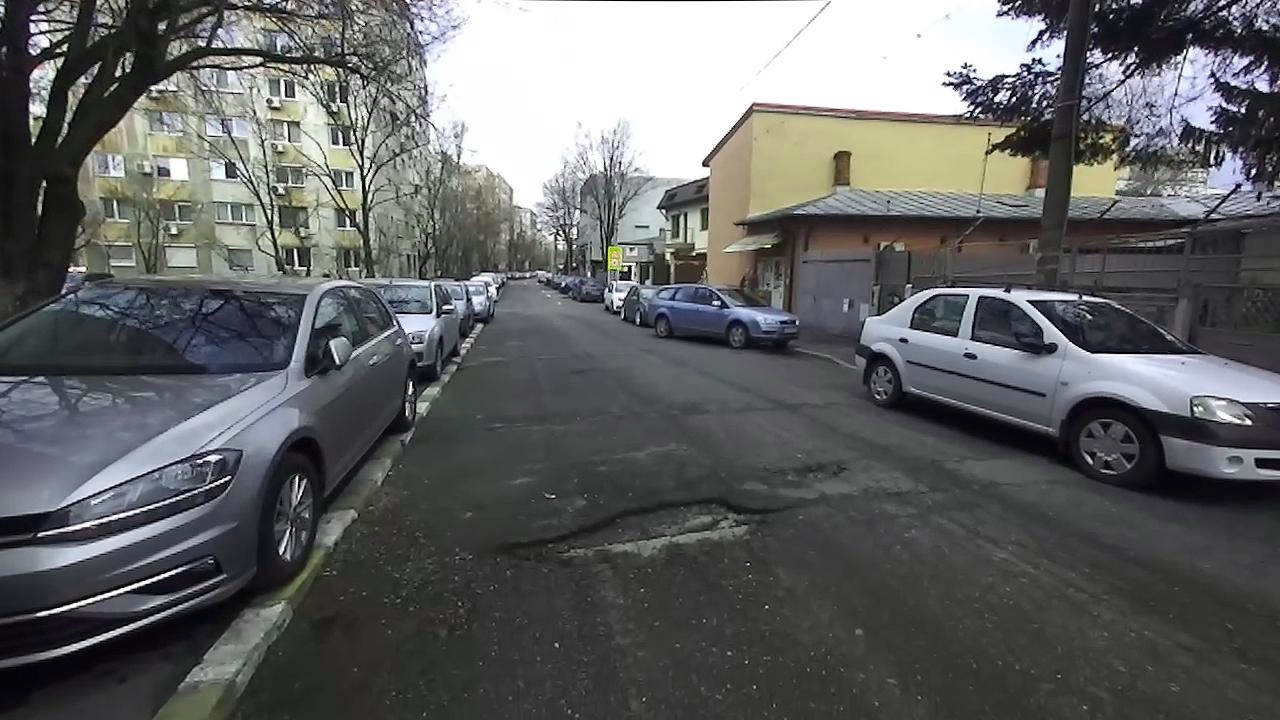pothole: (489, 492, 797, 571), (765, 453, 852, 485)
